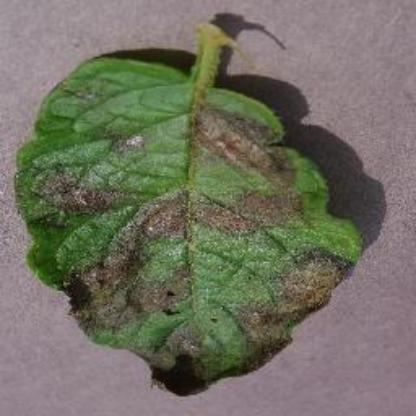Late-Blight: (14, 13, 366, 400)
